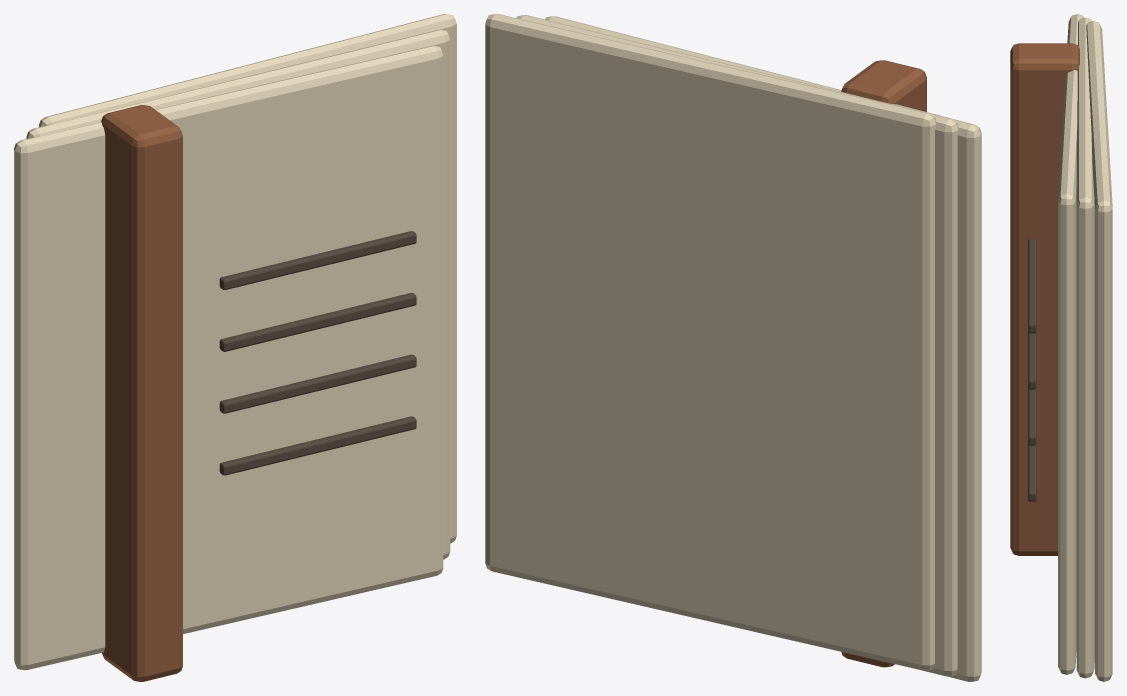
File: item_lou_case_notes.glb
3 views of the same model, side by side, from view 1: azimuth 30°, elevation 25°; view 2: azimuth 150°, elevation 25°; view 3: azimuth 270°, elevation 25° (orthographic). The views are drawn at different scales.
Visible parts, largest first — view 1: Paper sheet 1, Binding cord, Paper sheet 2, Paper sheet 3, Ink line 4, Ink line 3, Ink line 2, Ink line 1; view 2: Paper sheet 3, Paper sheet 1, Paper sheet 2, Binding cord; view 3: Binding cord, Paper sheet 3, Paper sheet 2, Paper sheet 1, Ink line 1, Ink line 2, Ink line 3, Ink line 4.
Boxes of the visible parts, x1,y1,x2,y2 form: Paper sheet 1: (14,46,443,670); Binding cord: (101,105,182,681); Paper sheet 2: (26,30,450,559); Paper sheet 3: (39,14,456,543); Ink line 4: (219,416,416,475); Ink line 3: (219,354,416,413); Ink line 2: (219,292,416,351); Ink line 1: (219,231,416,289); Paper sheet 3: (485,14,936,670); Paper sheet 1: (545,16,981,681); Paper sheet 2: (516,15,958,676); Binding cord: (841,60,926,667); Binding cord: (1010,43,1079,555); Paper sheet 3: (1086,21,1112,681); Paper sheet 2: (1076,17,1094,678); Paper sheet 1: (1058,14,1083,674); Ink line 1: (1028,239,1036,333); Ink line 2: (1028,332,1036,389); Ink line 3: (1028,388,1036,445); Ink line 4: (1028,444,1036,501).
Size of the model in its own units: 0.108 by 0.124 by 0.0232.
